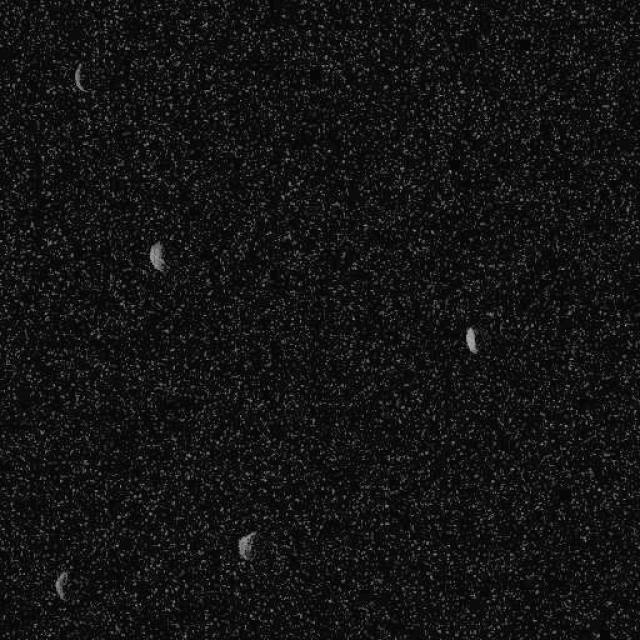D2: (148, 240, 168, 272), (236, 529, 256, 561), (72, 62, 90, 92), (52, 569, 68, 601), (464, 325, 478, 354)
